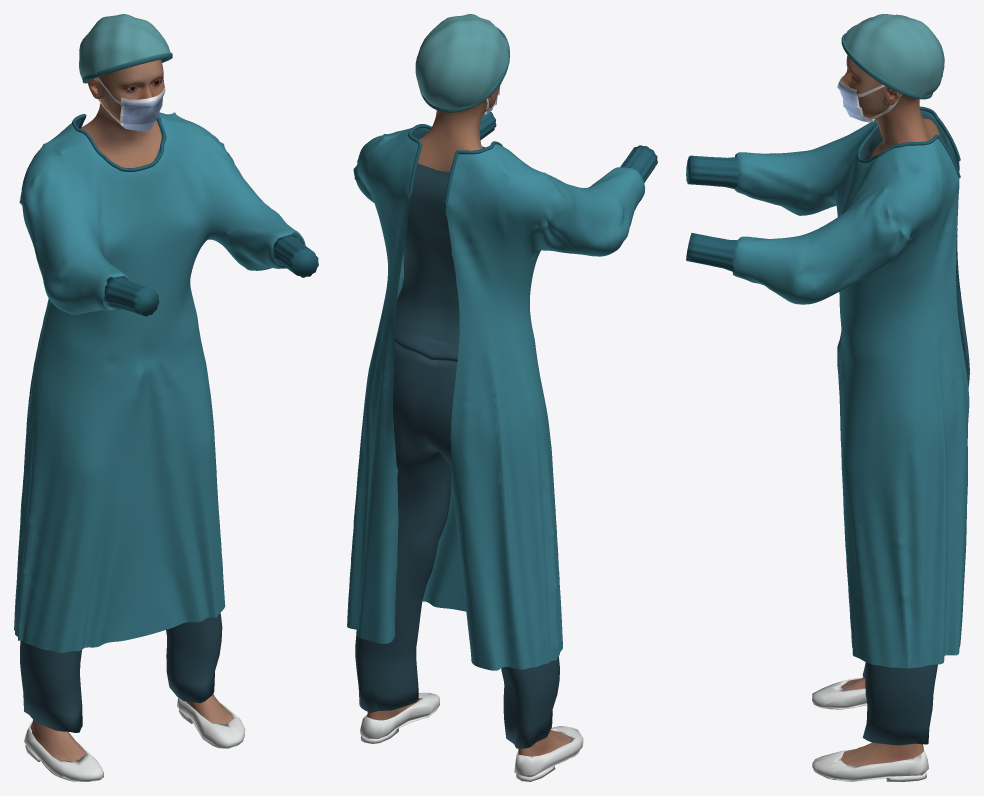
The model's file is paso-3.glb.
3 renders of one model, left to right at view 1: azimuth 30°, elevation 25°; view 2: azimuth 150°, elevation 25°; view 3: azimuth 270°, elevation 25°, orthographic.
Parts seen in each view (by area): view 1: gown, Human.toigo_wool_pants-static, Human-static, surgical-cap, Human.toigo_flats-static, cuff-R, Human.joepal_medical_mouth_protection-static, cuff-L, neck-binding, cap-elastic; view 2: gown, Human.toigo_wool_pants-static, Human.joepal_crude_t-shirt_female-static, surgical-cap, Human-static, Human.toigo_flats-static, neck-binding, cuff-R; view 3: gown, surgical-cap, Human.toigo_wool_pants-static, Human-static, Human.toigo_flats-static, cuff-R, cuff-L, neck-binding, Human.joepal_medical_mouth_protection-static, cap-elastic.
Boxes of the visible parts, x1=… form: gown: x1=14, y1=112, x2=305, y2=652; Human.toigo_wool_pants-static: x1=20, y1=613, x2=222, y2=732; Human-static: x1=30, y1=59, x2=233, y2=761; surgical-cap: x1=79, y1=14, x2=170, y2=79; Human.toigo_flats-static: x1=24, y1=697, x2=245, y2=781; cuff-R: x1=103, y1=276, x2=159, y2=316; Human.joepal_medical_mouth_protection-static: x1=97, y1=77, x2=165, y2=131; cuff-L: x1=273, y1=234, x2=318, y2=277; neck-binding: x1=72, y1=114, x2=166, y2=171; cap-elastic: x1=82, y1=52, x2=172, y2=83; gown: x1=347, y1=127, x2=645, y2=670; Human.toigo_wool_pants-static: x1=355, y1=323, x2=559, y2=748; Human.joepal_crude_t-shirt_female-static: x1=394, y1=163, x2=459, y2=371; surgical-cap: x1=415, y1=14, x2=508, y2=109; Human-static: x1=367, y1=84, x2=571, y2=756; Human.toigo_flats-static: x1=360, y1=692, x2=583, y2=781; neck-binding: x1=408, y1=124, x2=502, y2=203; cuff-R: x1=620, y1=145, x2=657, y2=182; gown: x1=732, y1=110, x2=969, y2=668; surgical-cap: x1=844, y1=14, x2=944, y2=97; Human.toigo_wool_pants-static: x1=862, y1=344, x2=968, y2=745; Human-static: x1=841, y1=55, x2=939, y2=766; Human.toigo_flats-static: x1=812, y1=677, x2=928, y2=781; cuff-R: x1=686, y1=155, x2=739, y2=188; cuff-L: x1=686, y1=233, x2=738, y2=271; neck-binding: x1=857, y1=106, x2=960, y2=178; Human.joepal_medical_mouth_protection-static: x1=837, y1=76, x2=901, y2=122; cap-elastic: x1=841, y1=33, x2=932, y2=99.
Size of the model in its own units: 0.5799 by 1.7 by 0.6075.
15 materials, 8 textured.
